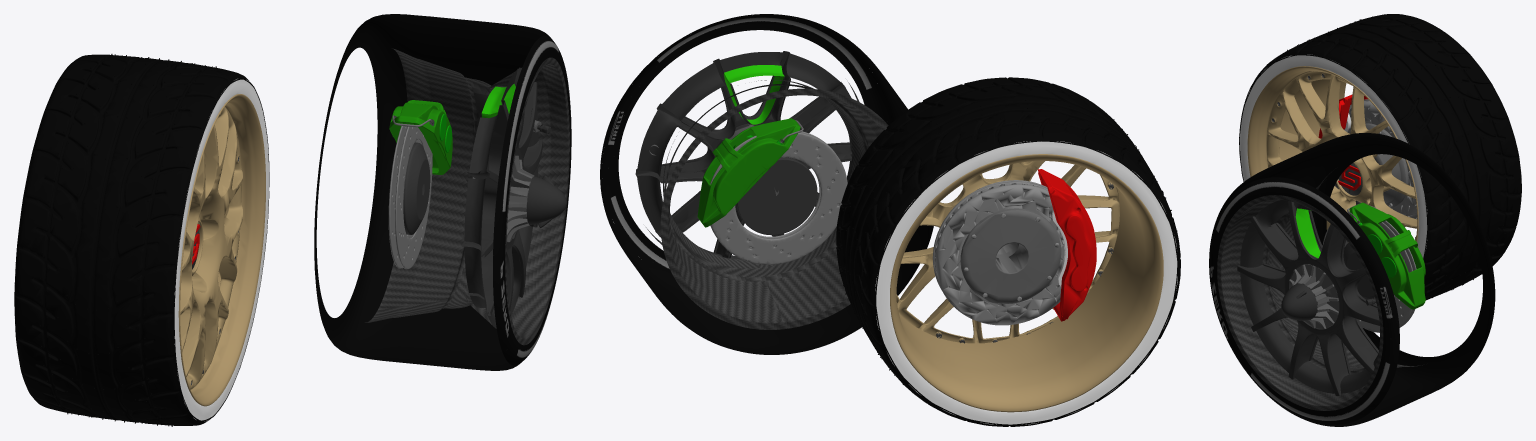
File: wheels.glb
The picture shows the model from 3 angles, left to right: view 1: azimuth 30°, elevation 25°; view 2: azimuth 150°, elevation 25°; view 3: azimuth 270°, elevation 25°; orthographic projection. The views are drawn at different scales.
Visible parts, largest first — view 1: Object_4, Object_35, Object_34; view 2: Object_4, Object_35, Object_34; view 3: Object_4, Object_35, Object_34.
Part boxes in pixels (left/top/right/bottom): Object_4: left=14, top=14, right=566, bottom=426; Object_35: left=365, top=48, right=569, bottom=345; Object_34: left=493, top=35, right=571, bottom=365; Object_4: left=600, top=14, right=1180, bottom=426; Object_35: left=646, top=79, right=888, bottom=329; Object_34: left=602, top=15, right=888, bottom=279; Object_4: left=1209, top=14, right=1521, bottom=426; Object_35: left=1217, top=170, right=1422, bottom=410; Object_34: left=1209, top=177, right=1399, bottom=424.
Size of the model in its own units: 5.5 by 2.92 by 3.19.
4 materials, 4 textured.
